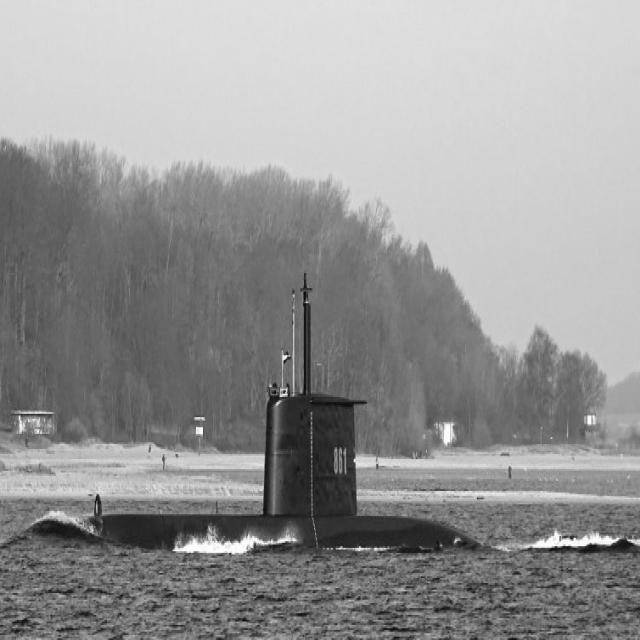submarine: (96, 393, 499, 549)
